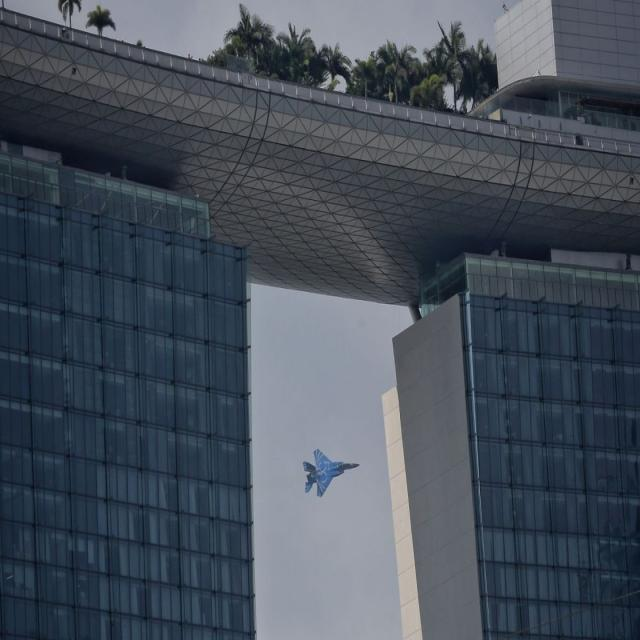MIL_Plane: (302, 448, 360, 498)
